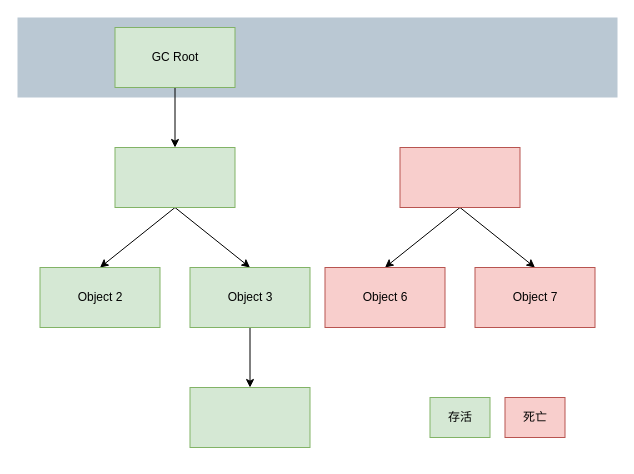
Some shapes in this 634 by 474 pixel diagram are drawn without their labels. Here are the shapes that lost their labels. From the top down, the centre of each, then its label:
pixel 174 177: Object 1
pixel 459 177: Object 5
pixel 249 417: Object 4
